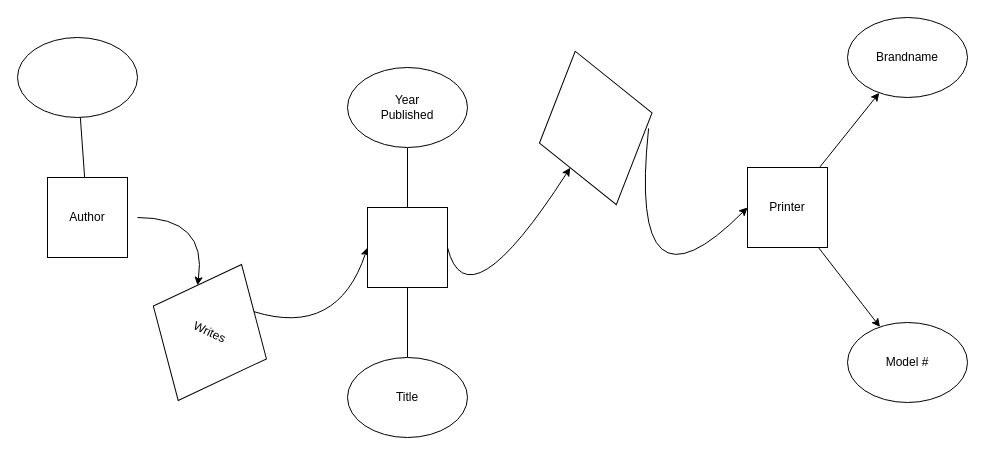
The diagram is 985 pixels wide and 455 high, and some of its shapes have lost their labels. The centre of each missing label's shape, as x and y in pixels:
Books: the point at 407,247
Name: the point at 77,77
Printed by: the point at 595,127
